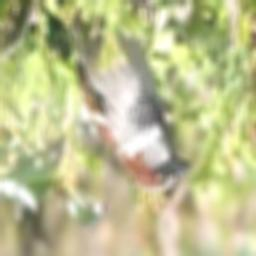Sparrow: (66, 15, 191, 192)
